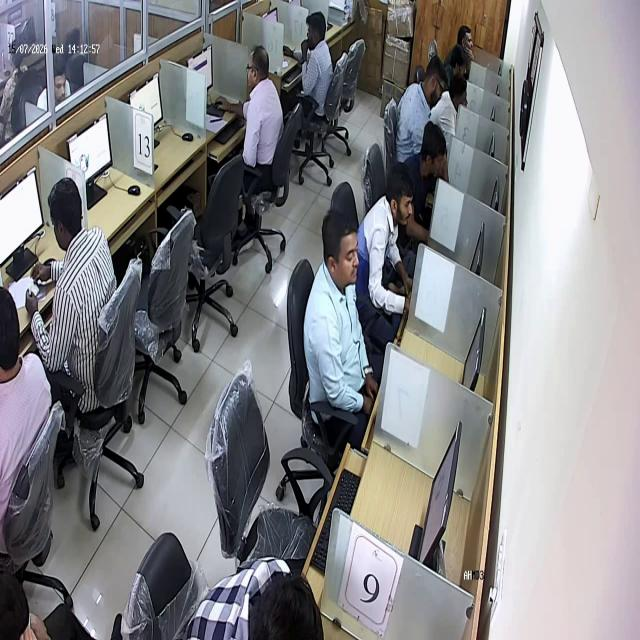paper-chit: (26, 277, 40, 296)
